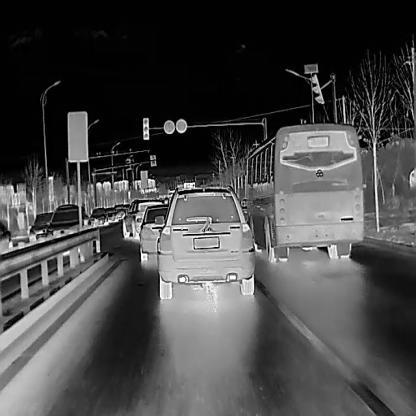car: (239, 121, 364, 263), (150, 184, 255, 300), (44, 202, 91, 248), (138, 203, 172, 263), (120, 198, 164, 240), (29, 210, 57, 247), (88, 205, 108, 226), (103, 206, 118, 220)
